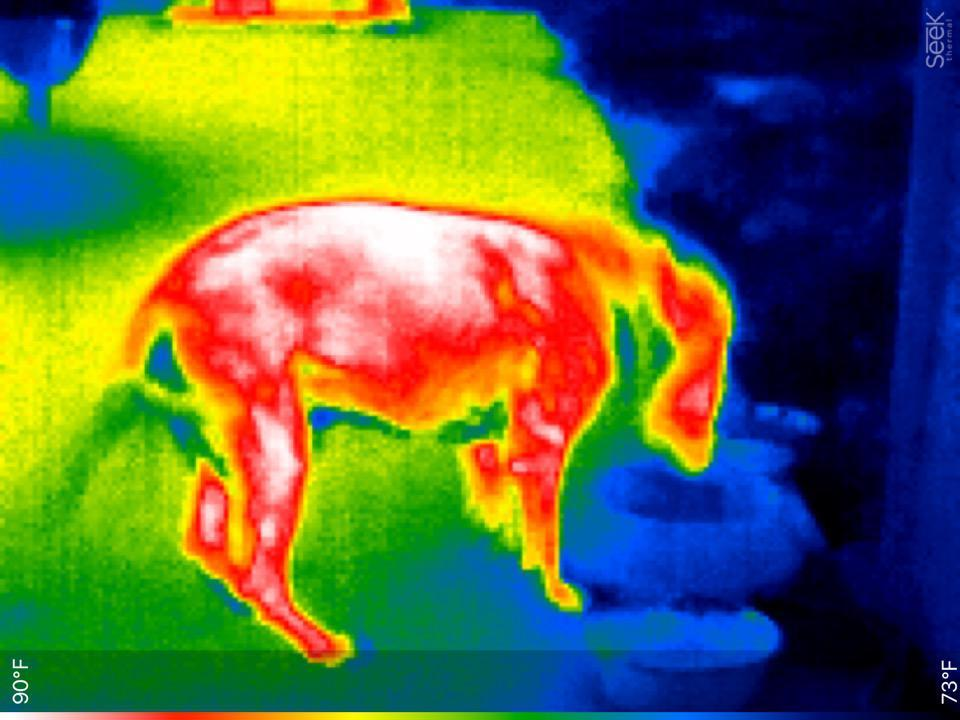dog: (119, 191, 742, 668)
